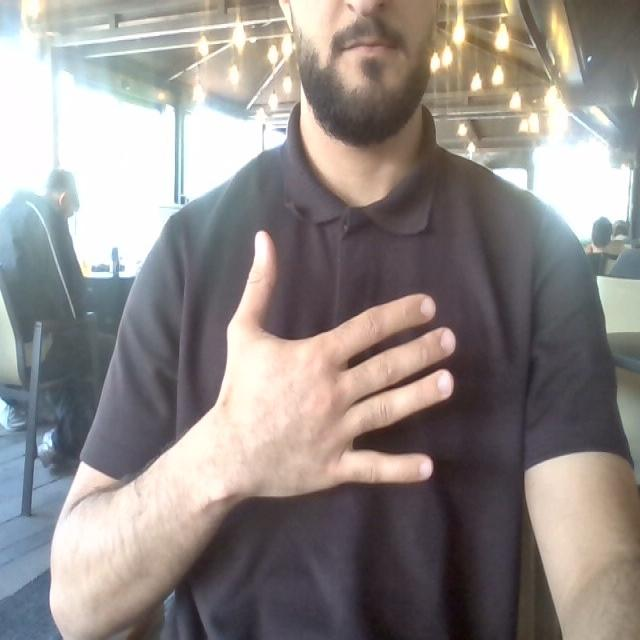Hand: (205, 232, 454, 495)
